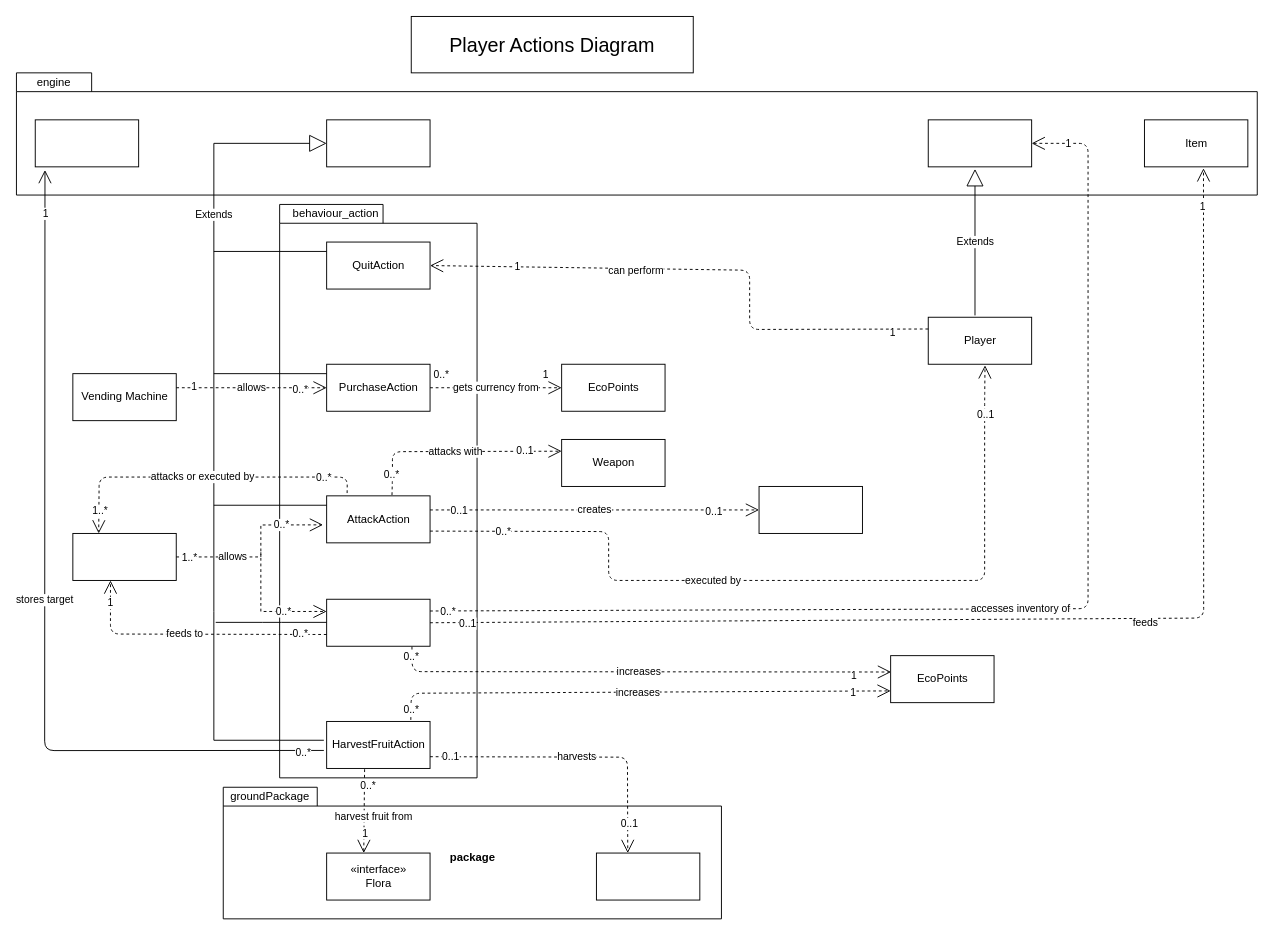
Some shapes in this 1274 by 935 pixel diagram are drawn without their labels. Each missing label, with the box of its shape:
Action: (326, 119, 430, 167)
Actor: (927, 119, 1032, 167)
Corpse: (758, 486, 862, 533)
FeedDinoAction: (326, 598, 430, 646)
Fruit: (595, 852, 700, 900)
Location: (34, 119, 139, 167)
«abstract» Dinosaur: (72, 533, 176, 580)
